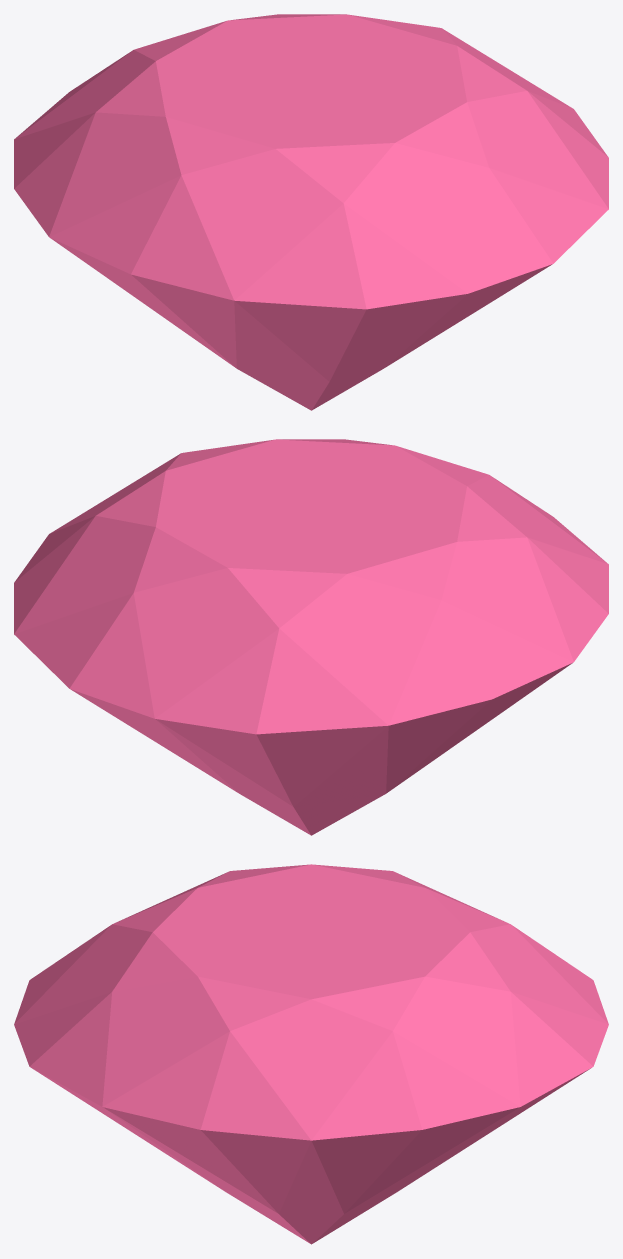
File: Tourmaline.fbx
3 renders of one model, top to bottom at view 1: azimuth 30°, elevation 25°; view 2: azimuth 150°, elevation 25°; view 3: azimuth 270°, elevation 25°, orthographic. The views are drawn at different scales.
Visible parts, largest first — view 1: Plane; view 2: Plane; view 3: Plane.
Boxes of the visible parts, x1,y1,x2,y2 form: Plane: (14, 14, 608, 410); Plane: (14, 439, 608, 835); Plane: (14, 864, 608, 1244).
Size of the model in its own units: 516 by 309 by 534.
